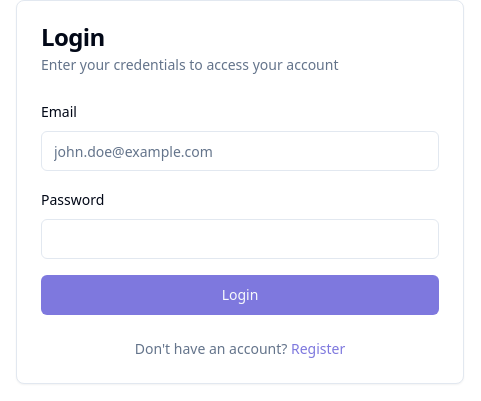
Test case: LoginForm › Form Validation › preserves form data during input
Type partial data
Type "test@" into the field labelled "Email" at (240, 151), box [41, 131, 439, 171]
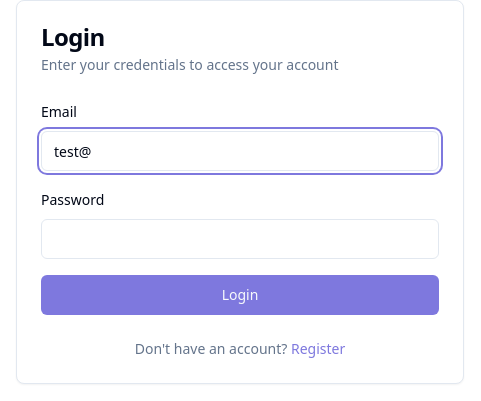
Type "pass" into the password field labelled "Password" at (240, 239), box [41, 219, 439, 259]
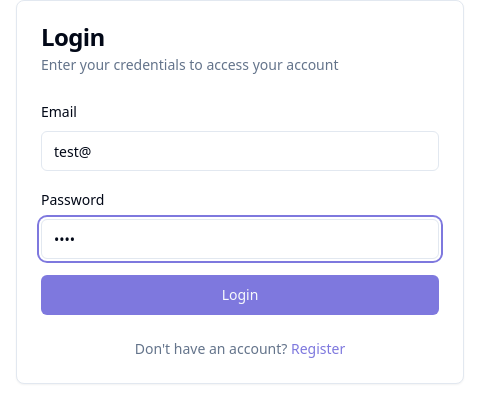
Complete the input
Type "example.com" into the field labelled "Email" at (240, 151), box [41, 131, 439, 171]
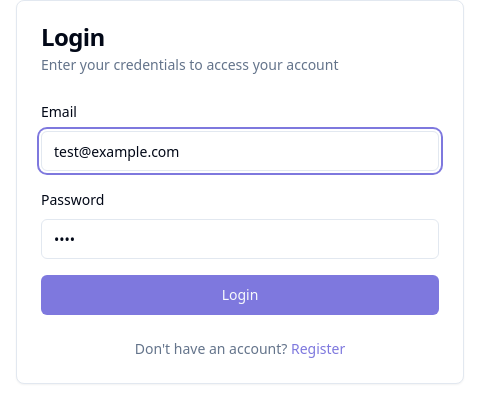
Type "word123" into the password field labelled "Password" at (240, 239), box [41, 219, 439, 259]
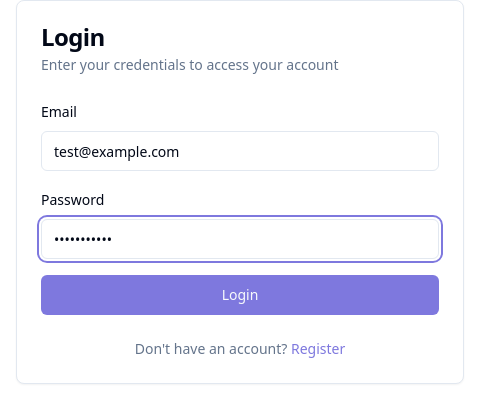
Check: the field labelled "Email" holds "test@example.com", box [41, 131, 439, 171]
Check: the password field labelled "Password" holds "password123", box [41, 219, 439, 259]
